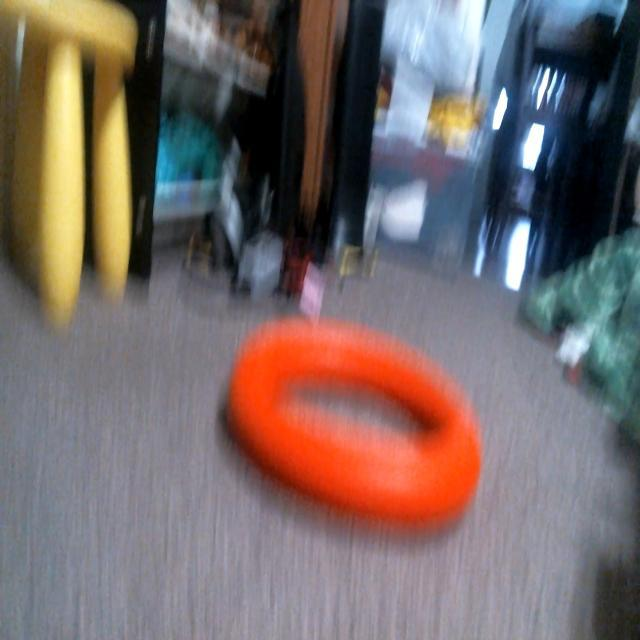note: (226, 321, 482, 532)
